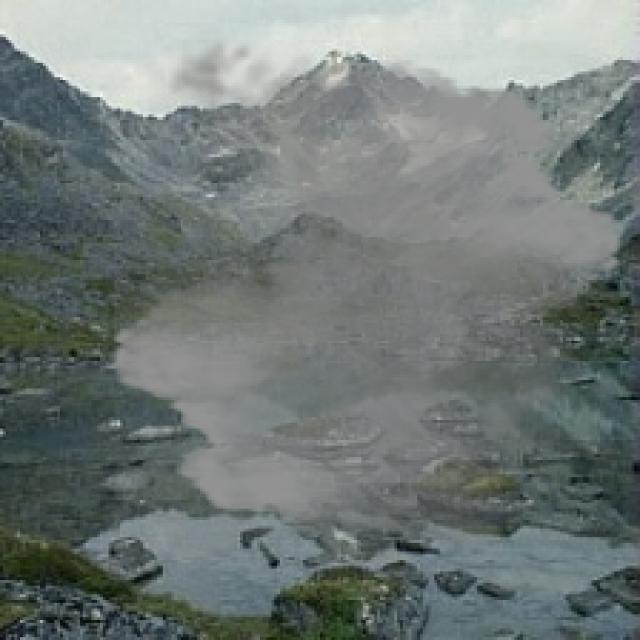Smoke: (94, 23, 637, 566)
